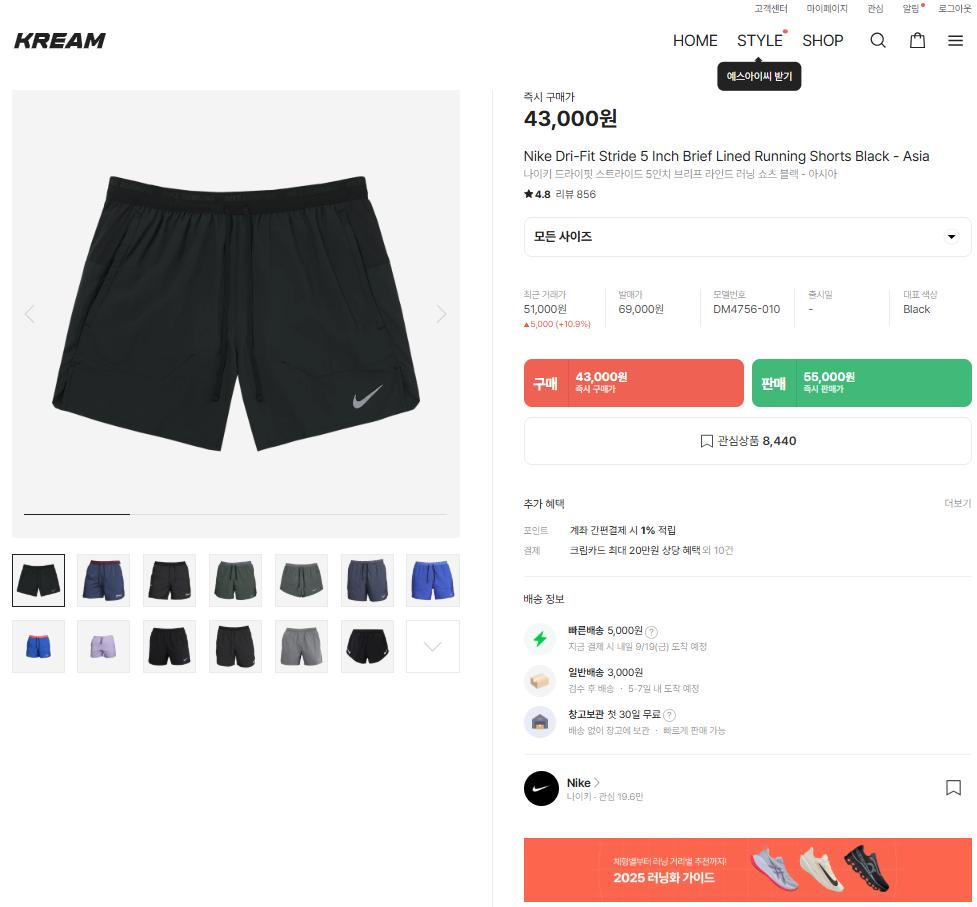button: (523, 419, 969, 468), (524, 360, 743, 411), (754, 359, 975, 407), (340, 551, 394, 605), (76, 555, 130, 609), (10, 554, 64, 608), (146, 554, 200, 608), (341, 624, 395, 678), (11, 626, 65, 680), (405, 549, 459, 603), (206, 553, 260, 606), (276, 553, 330, 606), (208, 625, 261, 679), (278, 625, 331, 679), (148, 626, 201, 680), (406, 623, 460, 676), (78, 628, 131, 681), (729, 31, 781, 57), (660, 30, 711, 54), (796, 32, 843, 51), (742, 2, 782, 18), (943, 28, 967, 51), (929, 4, 968, 18), (857, 32, 882, 53), (799, 6, 842, 18), (898, 31, 922, 52), (944, 497, 975, 511), (861, 4, 876, 20), (897, 7, 913, 20)
checkbox: (513, 219, 968, 260)
popup: (525, 840, 977, 907), (718, 61, 802, 93)
